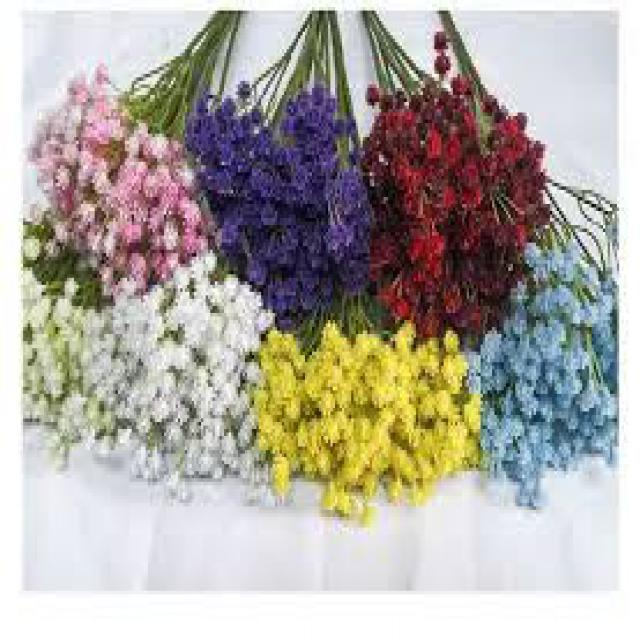gypsophila: (84, 228, 276, 512)
